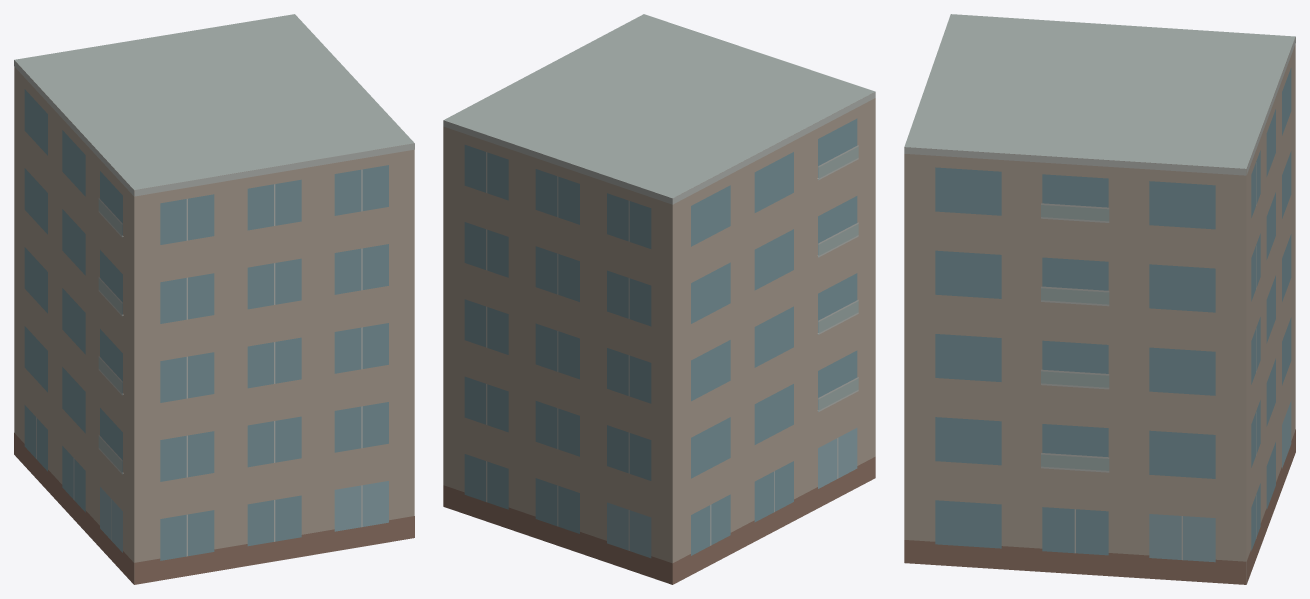
The model's file is survey-upis-32676033.glb.
3 views of the same model, side by side, from view 1: azimuth 30°, elevation 25°; view 2: azimuth 150°, elevation 25°; view 3: azimuth 270°, elevation 25° (orthographic). The views are drawn at different scales.
Visible parts, largest first — view 1: survey-upis-32676033.tmp; view 2: survey-upis-32676033.tmp; view 3: survey-upis-32676033.tmp.
Part boxes in pixels (box(x1,y1,x2,y2)): survey-upis-32676033.tmp: box(14, 14, 414, 584); survey-upis-32676033.tmp: box(443, 14, 875, 584); survey-upis-32676033.tmp: box(904, 14, 1295, 584).
Bounding box in the file's own units: 11.99 × 15 × 12.8.
